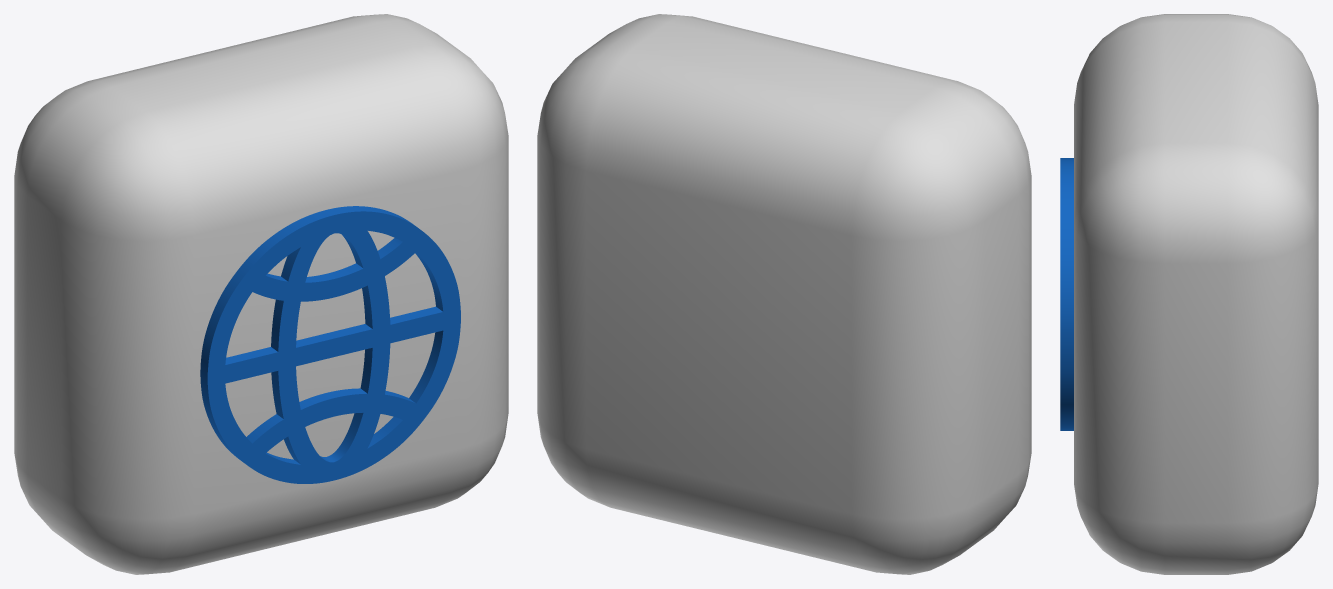
The model's file is Web.glb.
3 views of the same model, side by side, from view 1: azimuth 30°, elevation 25°; view 2: azimuth 150°, elevation 25°; view 3: azimuth 270°, elevation 25° (orthographic). The views are drawn at different scales.
Parts seen in each view (by area): view 1: LinkedIn.004, Curve.002; view 2: LinkedIn.004; view 3: LinkedIn.004, Curve.002.
Part boxes in pixels (<box>): LinkedIn.004: <box>14,14,508,574</box>; Curve.002: <box>200,206,460,483</box>; LinkedIn.004: <box>537,14,1031,574</box>; LinkedIn.004: <box>1074,14,1318,574</box>; Curve.002: <box>1060,158,1073,430</box>.
Size of the model in its own units: 0.989 by 0.989 by 0.5459.
